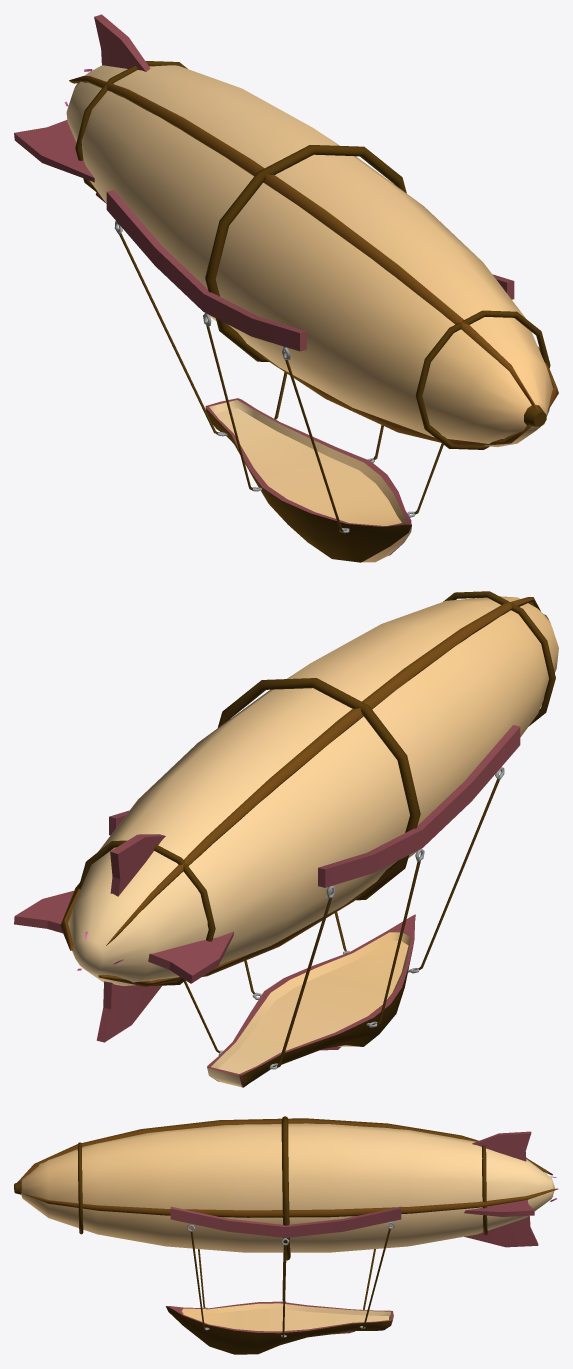
The model's file is Airship_1.fbx.
The picture shows the model from 3 angles, top to bottom: view 1: azimuth 30°, elevation 25°; view 2: azimuth 150°, elevation 25°; view 3: azimuth 270°, elevation 25°; orthographic projection. The views are drawn at different scales.
Visible parts, largest first — view 1: Airship_1; view 2: Airship_1; view 3: Airship_1.
Part boxes in pixels (x1,y1,x2,y2): Airship_1: (14, 14, 558, 562); Airship_1: (14, 591, 558, 1087); Airship_1: (14, 1116, 558, 1354).
Bounding box in the file's own units: 6.7 × 11.49 × 24.76.
